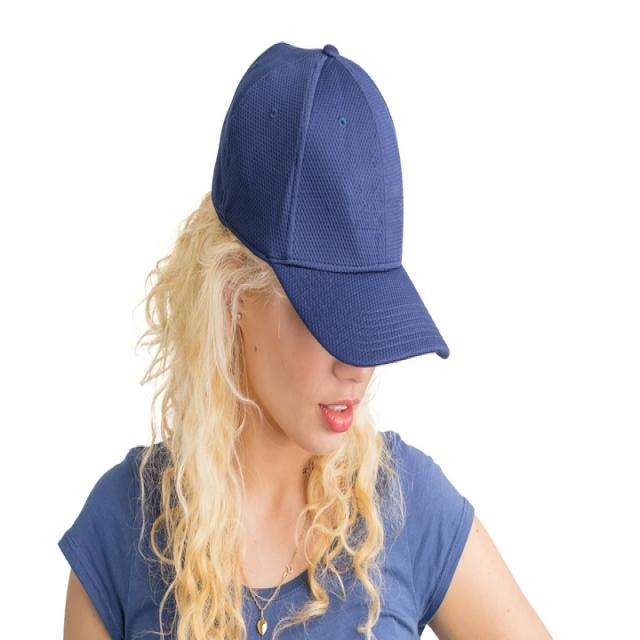no_helmet: (204, 33, 459, 381)
